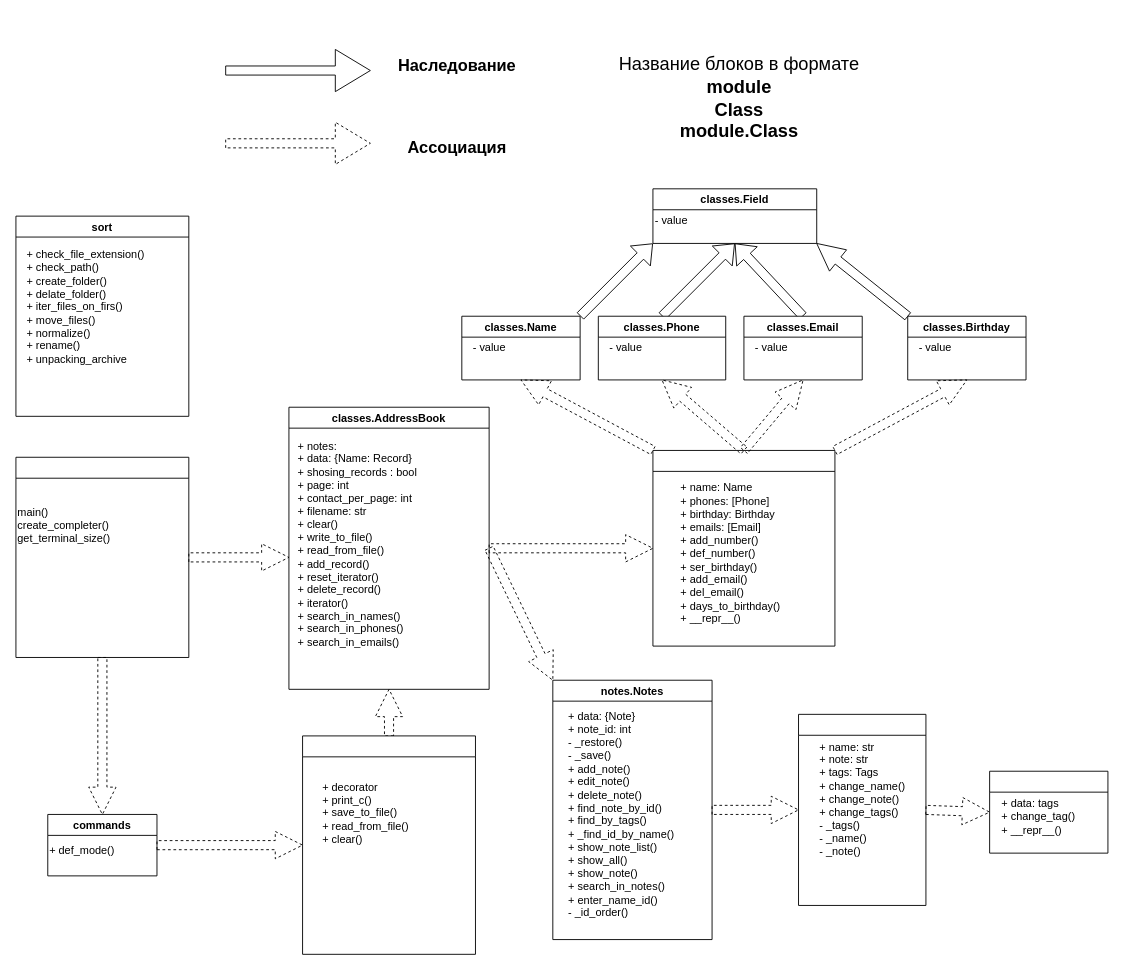
This 1124x970 diagram has some shape labels left out. The box of each missing label's shape, as (x1, y1, x2, y2) in pixels:
assistant: (15, 456, 189, 657)
classes.Record: (652, 450, 835, 646)
functions: (302, 735, 475, 954)
notes.Note: (798, 713, 926, 905)
notes.Tags: (989, 770, 1108, 853)
